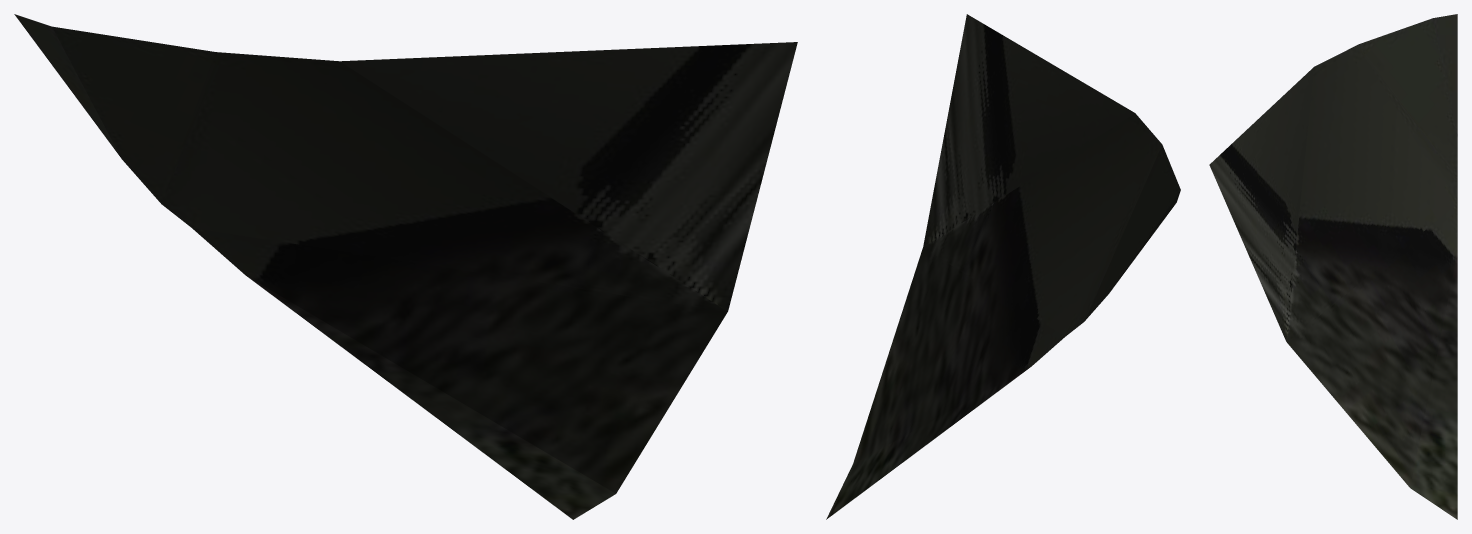
The picture shows the model from 3 angles, left to right: view 1: azimuth 30°, elevation 25°; view 2: azimuth 150°, elevation 25°; view 3: azimuth 270°, elevation 25°; orthographic projection. The views are drawn at different scales.
Size of the model in its own units: 2.22 by 2.44 by 1.54.
2 materials, 2 textured.
